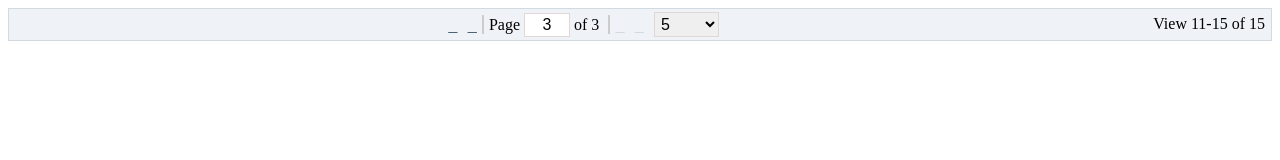
Pager › PageInput › page size input is changed - value is not a number - disable page icons and page size selection
Clear the field at (547, 25), box [524, 13, 570, 37]
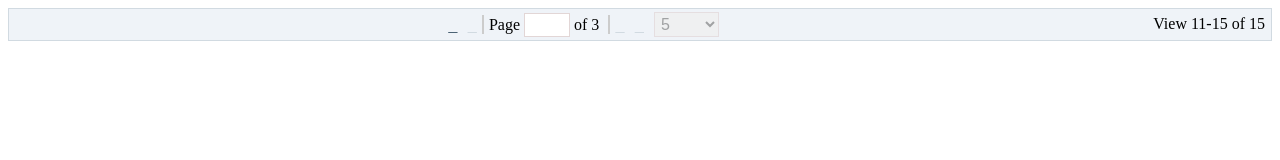
Expected: the dropdown is disabled, [654, 12, 719, 37]
